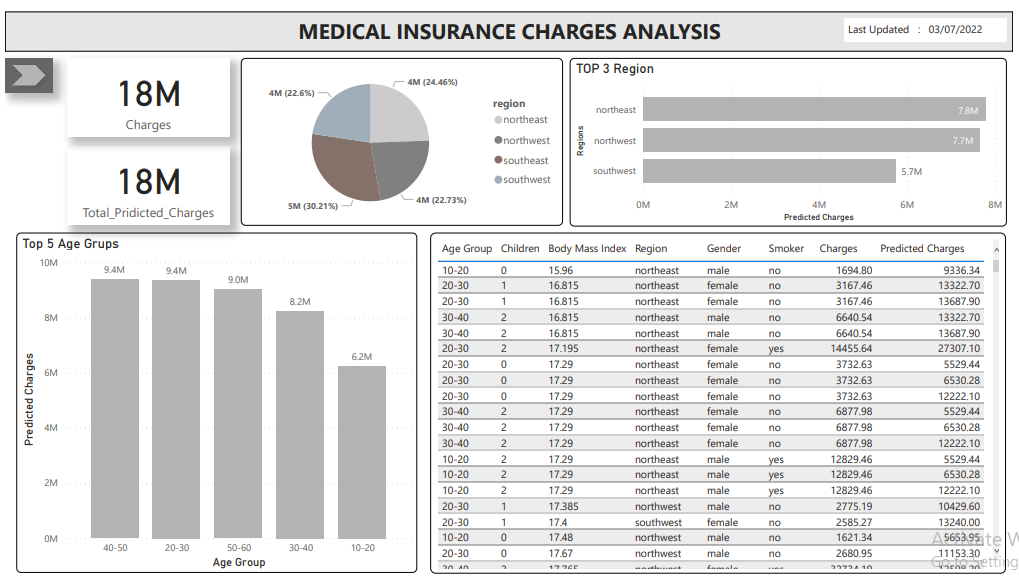

The dashboard page shown, as its layout file describes it:
{"tool":"powerbi","page":{"name":"Page 1","canvas":[1280,720],"ordinal":0},"visuals":[{"type":"clusteredColumnChart","title":"Top 5 Age Grups","fields":{"Category":["insurance.Age Group"],"Y":["Sum(predicted_charges.Predicted_Charges)"]},"box":[13.7,280.9,508.9,431.6],"z":0},{"type":"card","fields":{"Values":["key Measures (2).Total_Pridicted_Charges"]},"box":[79.9,172,205.8,100.4],"z":1000},{"type":"card","fields":{"Values":["key Measures (2).Total_Charges"]},"box":[79.9,59.4,205.8,100.4],"z":2000},{"type":"actionButton","box":[0,59.4,60.4,44],"z":6000},{"type":"textbox","box":[0,0,1280,51.2],"z":8000},{"type":"barChart","title":"TOP  3 Region","fields":{"Y":["key Measures (2).Total_Pridicted_Charges"],"Category":["insurance.region"]},"box":[716.8,58.4,555,214],"z":9000},{"type":"pieChart","fields":{"Category":["insurance.region"],"Y":["key Measures (2).Total_Charges"]},"box":[300,59.4,408.6,213],"z":10000},{"type":"textbox","box":[1065.7,8.8,205.5,30.3],"z":12000},{"type":"tableEx","fields":{"Values":["insurance.Age Group","insurance.children","insurance.bmi","insurance.region","insurance.sex","insurance.smoker","insurance.charges","predicted_charges.Predicted_Charges"]},"box":[540.2,280.9,731,432.5],"z":13000}]}

Visuals, with their boxes in screenshot pixels (x1, y1, x2, y2), scaled from the page's 1280x720 canvas onto the 1019x583 screenshot:
"Top 5 Age Grups" clusteredColumnChart: <region>11, 227, 416, 577</region>
card - key Measures (2).Total_Pridicted_Charges: <region>64, 139, 227, 221</region>
card - key Measures (2).Total_Charges: <region>64, 48, 227, 129</region>
actionButton: <region>0, 48, 48, 84</region>
textbox: <region>0, 0, 1018, 41</region>
"TOP  3 Region" barChart: <region>571, 47, 1012, 221</region>
pieChart - insurance.region x key Measures (2).Total_Charges: <region>239, 48, 564, 221</region>
textbox: <region>848, 7, 1012, 32</region>
tableEx - insurance.Age Group x insurance.children: <region>430, 227, 1012, 578</region>
